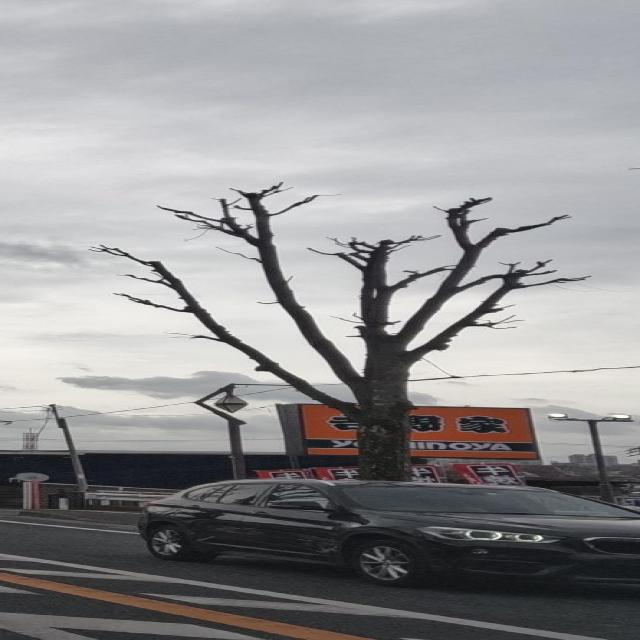zelkova: (87, 180, 598, 482)
